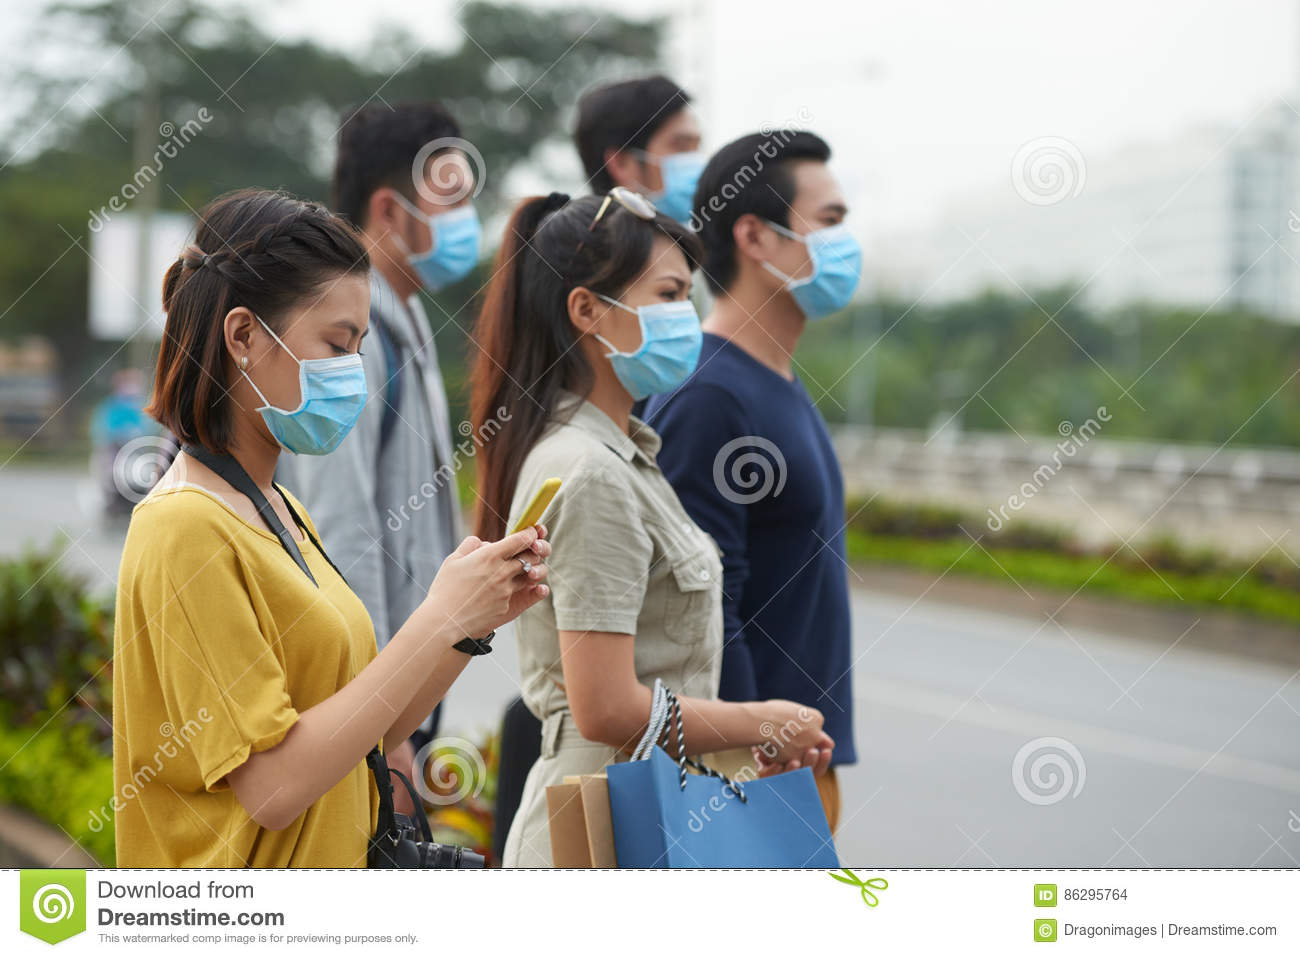mask: (254, 339, 376, 480), (616, 307, 717, 402), (791, 216, 863, 319)
